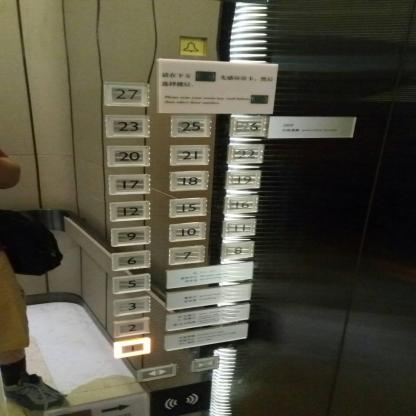1: (113, 336, 150, 358)
10: (168, 222, 205, 242)
11: (222, 218, 256, 236)
12: (110, 201, 150, 222)
15: (168, 196, 206, 218)
16: (224, 195, 258, 214)
17: (109, 174, 151, 195)
18: (168, 170, 209, 190)
19: (225, 169, 261, 190)
2: (113, 318, 150, 336)
20: (106, 146, 148, 166)
21: (169, 144, 209, 166)
22: (227, 142, 264, 165)
23: (105, 116, 148, 139)
25: (169, 117, 212, 136)
26: (230, 114, 268, 138)
27: (106, 82, 150, 105)
3: (111, 295, 151, 317)
5: (111, 274, 150, 294)
6: (110, 249, 152, 271)
7: (166, 244, 206, 264)
8: (219, 241, 257, 260)
9: (110, 226, 151, 246)
alarm: (178, 35, 209, 57)
close: (189, 355, 221, 372)
open: (136, 362, 178, 382)
